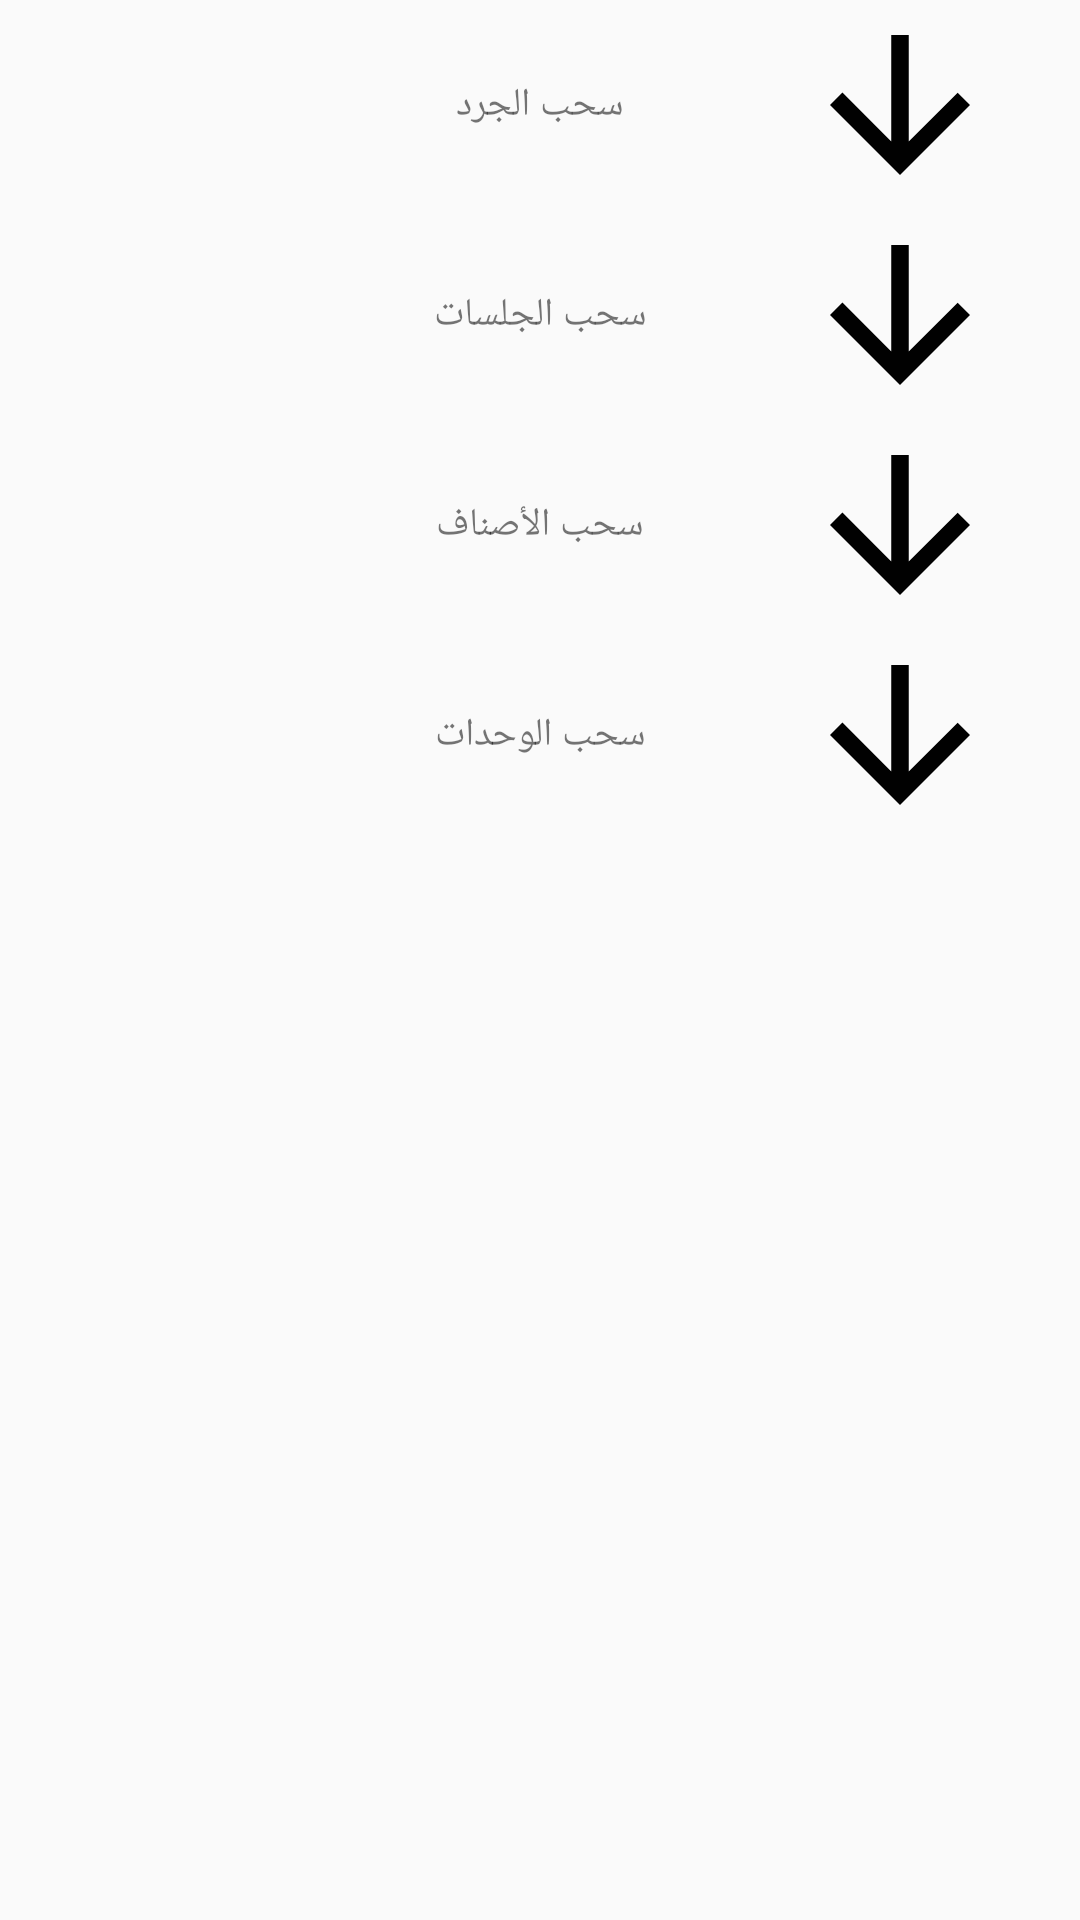

Where to tap for icons on this 1080w x 1920h app screen, as point (x, y):
get data: point (900, 105), point (900, 315), point (900, 525), point (900, 735)
